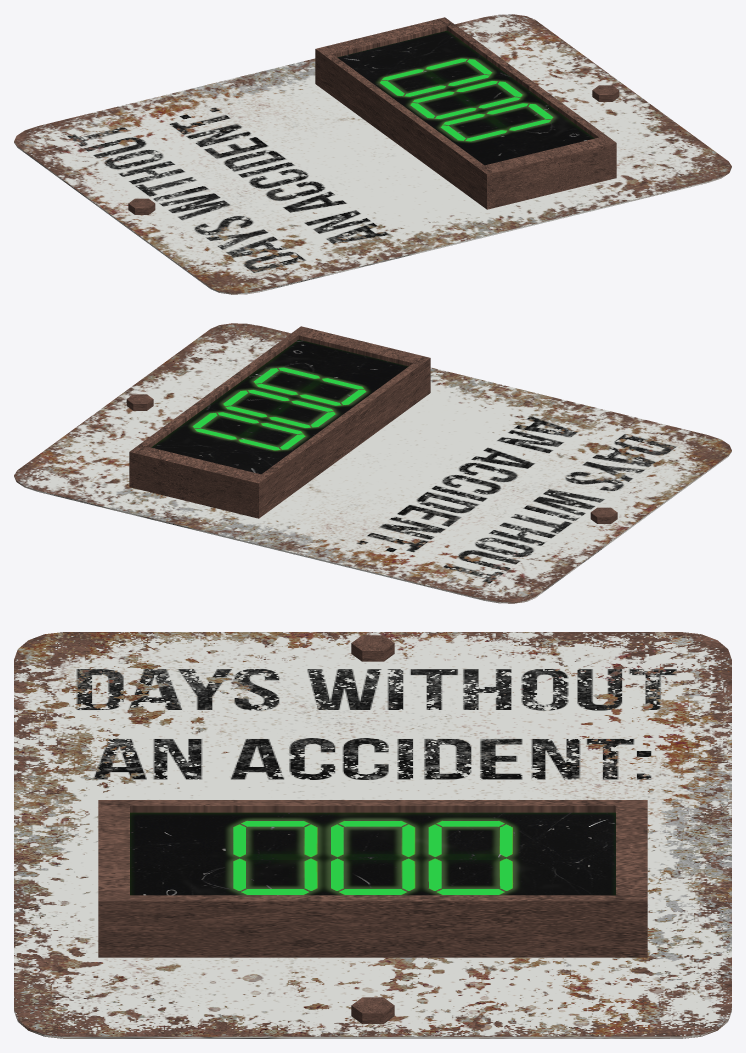
File: Alzuroth_sign.fbx
3 views of the same model, one above another, from view 1: azimuth 30°, elevation 25°; view 2: azimuth 150°, elevation 25°; view 3: azimuth 270°, elevation 25° (orthographic). The views are drawn at different scales.
Parts seen in each view (by area): view 1: Sign, Sign.001; view 2: Sign, Sign.001; view 3: Sign, Sign.001.
Part boxes in pixels (left/top/right/bottom): Sign: left=14, top=14, right=731, bottom=294; Sign.001: left=337, top=30, right=594, bottom=165; Sign: left=14, top=323, right=731, bottom=603; Sign.001: left=151, top=339, right=408, bottom=474; Sign: left=14, top=632, right=731, bottom=1038; Sign.001: left=130, top=812, right=615, bottom=895.
Size of the model in its own units: 8 by 0.54 by 6.
Materials: 5 (4 with a texture image).
